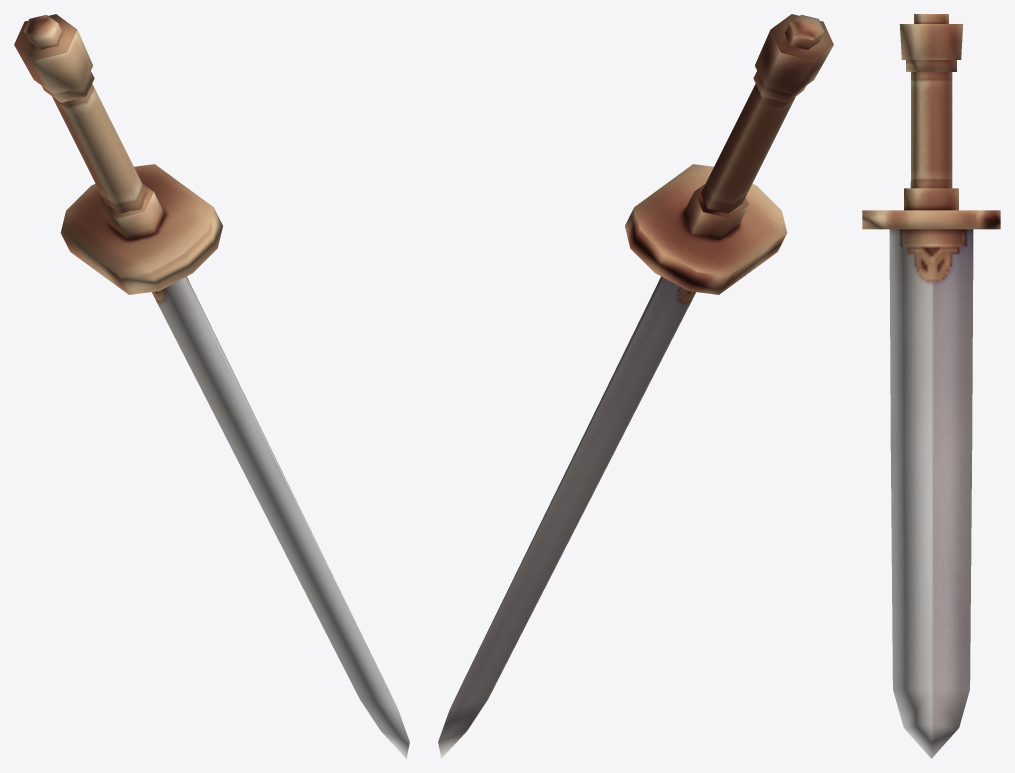
Rendered from sword.fbx.
3 views of the same model, side by side, from view 1: azimuth 30°, elevation 25°; view 2: azimuth 150°, elevation 25°; view 3: azimuth 270°, elevation 25° (orthographic). The views are drawn at different scales.
Visible parts, largest first — view 1: weapon; view 2: weapon; view 3: weapon.
Boxes of the visible parts, x1=… form: weapon: x1=14, y1=14, x2=409, y2=758; weapon: x1=438, y1=14, x2=833, y2=758; weapon: x1=862, y1=14, x2=1000, y2=758.
Size of the model in its own units: 25.74 by 53.21 by 10.85.
1 material, 1 textured.
